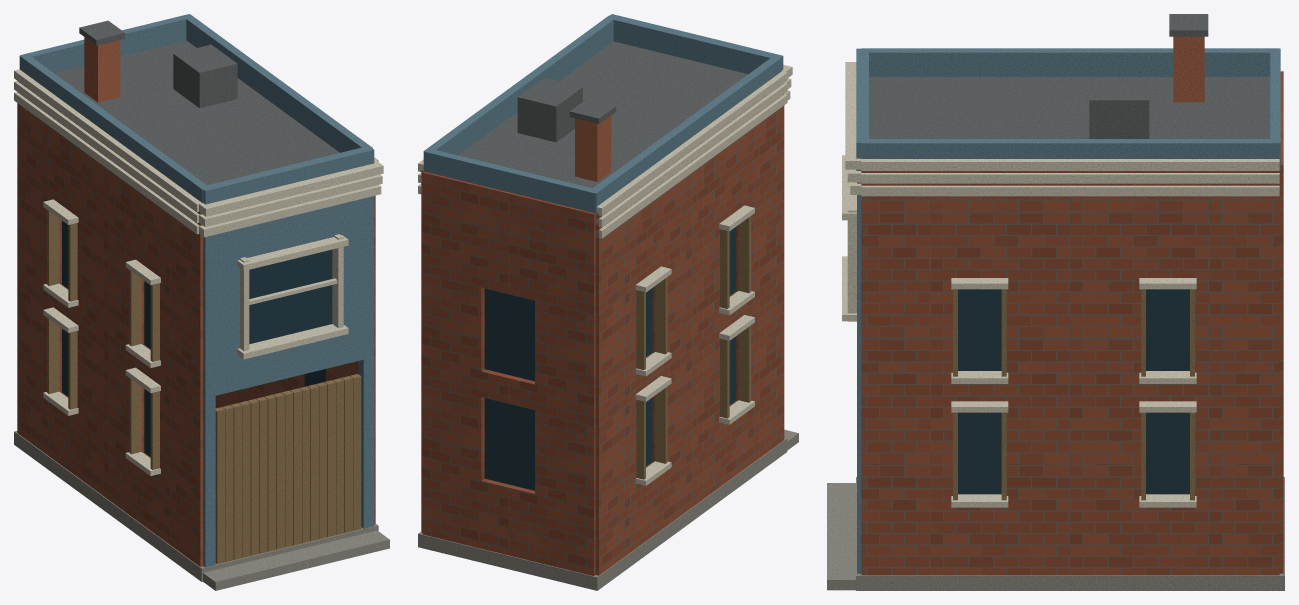
Rendered from WRHS6_lod2.glb.
3 renders of one model, left to right at view 1: azimuth 30°, elevation 25°; view 2: azimuth 150°, elevation 25°; view 3: azimuth 270°, elevation 25°, orthographic. The views are drawn at different scales.
Parts seen in each view (by area): view 1: WRHS6_LOD2; view 2: WRHS6_LOD2; view 3: WRHS6_LOD2.
Boxes of the visible parts, box(x1,y1,x2,y2) form: WRHS6_LOD2: box(14, 14, 389, 590); WRHS6_LOD2: box(418, 14, 798, 590); WRHS6_LOD2: box(827, 14, 1284, 590).
Bounding box in the file's own units: 3.71 × 7.85 × 6.57.
9 materials, 7 textured.
